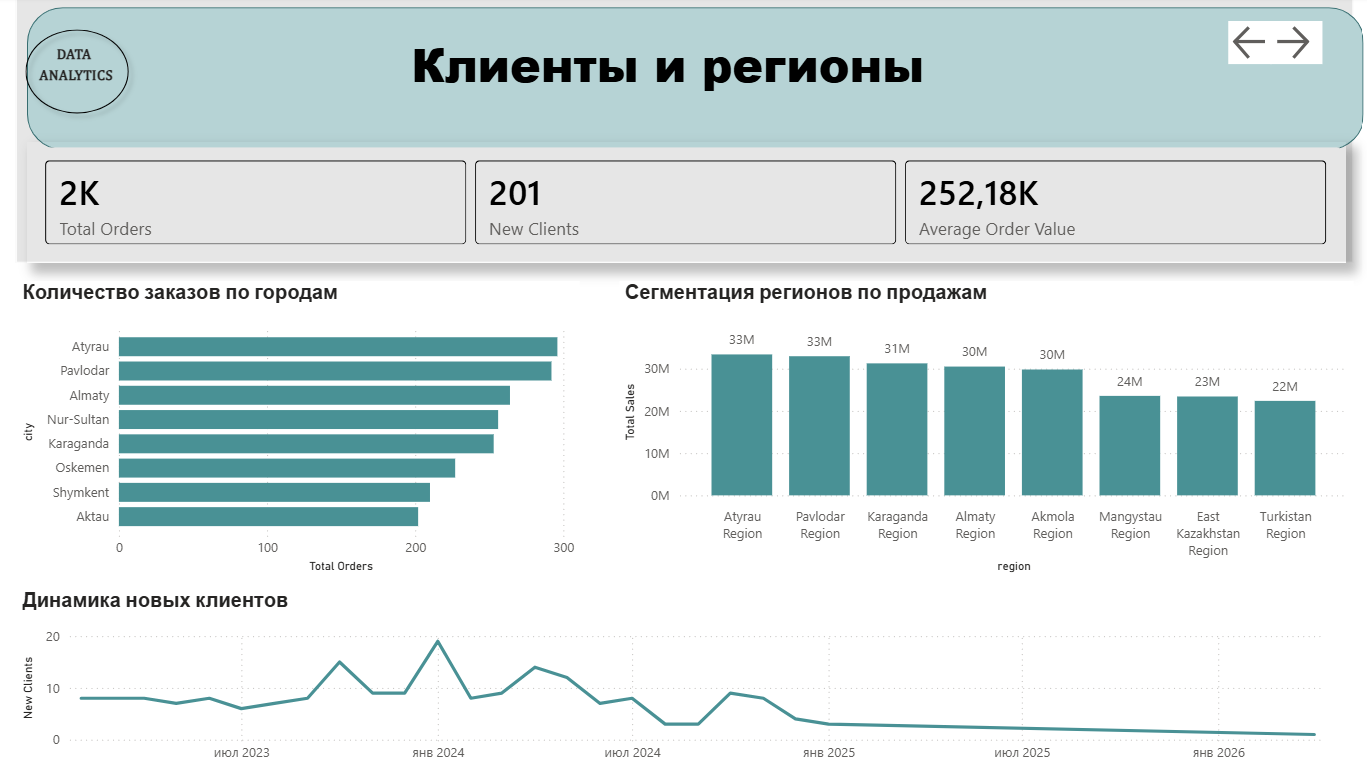

Layout of this report page (visuals, bound fields, positions):
{"tool":"powerbi","page":{"name":"Клиенты и регионы","canvas":[1280,720],"ordinal":2},"visuals":[{"type":"shape","box":[22.1,0,1241.9,247.7],"z":0},{"type":"shape","box":[32.1,10,1241.9,132.6],"z":1000},{"type":"textbox","box":[24.7,39.8,107,59],"z":2000},{"type":"shape","box":[22,22,113.9,96.1],"z":3000},{"type":"textbox","box":[383.9,28.1,513.2,71.4],"z":4000},{"type":"cardVisual","fields":{"Data":["nomenclature_reference.Total Orders","nomenclature_reference.New Clients","nomenclature_reference.Average Order Value"]},"box":[32.4,136.3,1224.8,112.3],"z":5000},{"type":"barChart","title":"Количество заказов по городам","fields":{"Category":["public_clients.city"],"Y":["nomenclature_reference.Total Orders"]},"box":[22.7,264.4,522.4,275.8],"z":6000},{"type":"lineChart","title":"Динамика новых клиентов","fields":{"Category":["public_clients.registration_date.Variation.Date Hierarchy.Year","public_clients.registration_date.Variation.Date Hierarchy.Quarter","public_clients.registration_date.Variation.Date Hierarchy.Month","public_clients.registration_date.Variation.Date Hierarchy.Day"],"Y":["nomenclature_reference.New Clients"]},"box":[22.7,550,1234.6,170.3],"z":7000},{"type":"columnChart","title":"Сегментация регионов по продажам","fields":{"Category":["public_clients.region"],"Y":["public_sales.Total Sales"]},"box":[582.4,264.4,681.4,275.8],"z":8000},{"type":"actionButton","box":[1187.7,22.7,48.2,40.1],"z":9000},{"type":"actionButton","box":[1147.6,22.7,40.1,40.1],"z":10000}]}

Visuals, with their boxes in screenshot pixels (x1, y1, x2, y2), scaled from the page's 1280x720 canvas onto the 1367x767 screenshot:
shape: [x1=24, y1=0, x2=1350, y2=264]
shape: [x1=34, y1=11, x2=1361, y2=152]
textbox: [x1=26, y1=42, x2=141, y2=105]
shape: [x1=23, y1=23, x2=145, y2=126]
textbox: [x1=410, y1=30, x2=958, y2=106]
cardVisual - nomenclature_reference.Total Orders x nomenclature_reference.New Clients: [x1=35, y1=145, x2=1343, y2=265]
"Количество заказов по городам" barChart: [x1=24, y1=282, x2=582, y2=575]
"Динамика новых клиентов" lineChart: [x1=24, y1=586, x2=1343, y2=766]
"Сегментация регионов по продажам" columnChart: [x1=622, y1=282, x2=1350, y2=575]
actionButton: [x1=1268, y1=24, x2=1320, y2=67]
actionButton: [x1=1226, y1=24, x2=1268, y2=67]
